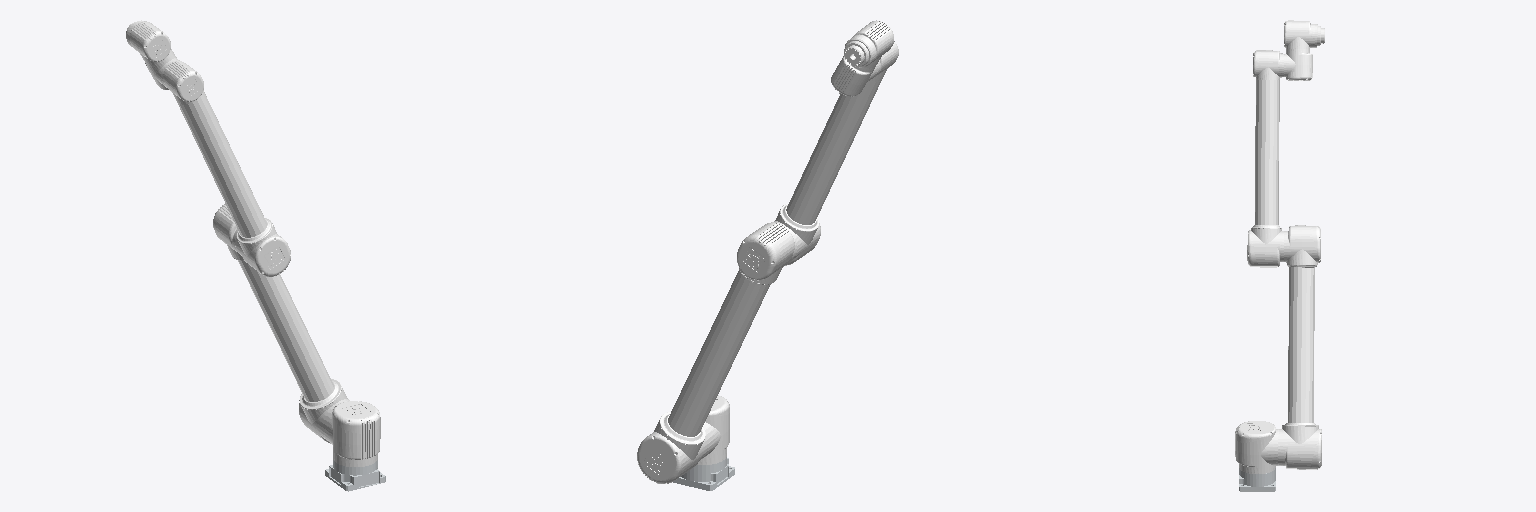
The robot description file, URDF, robot "YT":
<?xml version="1.0" encoding="utf-8"?>
<!-- This URDF was automatically created by SolidWorks to URDF Exporter! Originally created by [author] ([email redacted]) 
     Commit Version: 1.5.1-0-g916b5db  Build Version: 1.5.7152.31018
     For more information, please see http://wiki.ros.org/sw_urdf_exporter -->
<robot
  name="YT">
  <link
    name="base_link">
    <inertial>
      <origin
        xyz="0.029803 0.073083 0.1288"
        rpy="0 0 0" />
      <mass
        value="3.71" />
      <inertia
        ixx="0.0073681"
        ixy="1.6609E-05"
        ixz="2.915E-05"
        iyy="0.011119"
        iyz="-2.9108E-05"
        izz="0.0073471" />
    </inertial>
    <visual>
      <origin
        xyz="0 0 0"
        rpy="0 0 0" />
      <geometry>
        <mesh
          filename="package://YT/meshes/base_link.STL" />
      </geometry>
      <material
        name="">
        <color
          rgba="0.89412 0.91373 0.92941 1" />
      </material>
    </visual>
    <collision>
      <origin
        xyz="0 0 0"
        rpy="0 0 0" />
      <geometry>
        <mesh
          filename="package://YT/meshes/base_link.STL" />
      </geometry>
    </collision>
  </link>
  <link
    name="link1">
    <inertial>
      <origin
        xyz="0.0831710226342745 -0.226900321699955 -0.559609398580625"
        rpy="0 0 0" />
      <mass
        value="14.3431138258698" />
      <inertia
        ixx="4.10403897461197"
        ixy="-0.0130192531909799"
        ixz="0.0088336084502807"
        iyy="3.59620627632839"
        iyz="-1.43876195561687"
        izz="0.713439719889236" />
    </inertial>
    <visual>
      <origin
        xyz="0 0 0"
        rpy="0 0 0" />
      <geometry>
        <mesh
          filename="package://YT/meshes/link1.STL" />
      </geometry>
      <material
        name="">
        <color
          rgba="1 1 1 1" />
      </material>
    </visual>
    <collision>
      <origin
        xyz="0 0 0"
        rpy="0 0 0" />
      <geometry>
        <mesh
          filename="package://YT/meshes/link1.STL" />
      </geometry>
    </collision>
  </link>
  <joint
    name="joint1"
    type="continuous">
    <origin
      xyz="0.029712 -0.12887 0.11217"
      rpy="3.1416 0 1.5477" />
    <parent
      link="base_link" />
    <child
      link="link1" />
    <axis
      xyz="0 0 -1" />
    <limit
      lower="-3.14"
      upper="3.14"
      effort="100"
      velocity="2.09" />
  </joint>
  <link
    name="link2">
    <inertial>
      <origin
        xyz="0.401489551832187 -2.79110068390764E-13 -0.0977402490718507"
        rpy="0 0 0" />
      <mass
        value="5.96228825379761" />
      <inertia
        ixx="0.00837772168861975"
        ixy="-3.61634575841356E-16"
        ixz="-2.15092158493968E-16"
        iyy="0.238464328063253"
        iyz="-1.30104260698261E-18"
        izz="0.238464328063253" />
    </inertial>
    <visual>
      <origin
        xyz="0 0 0"
        rpy="0 0 0" />
      <geometry>
        <mesh
          filename="package://YT/meshes/link2.STL" />
      </geometry>
      <material
        name="">
        <color
          rgba="1 1 1 1" />
      </material>
    </visual>
    <collision>
      <origin
        xyz="0 0 0"
        rpy="0 0 0" />
      <geometry>
        <mesh
          filename="package://YT/meshes/link2.STL" />
      </geometry>
    </collision>
  </link>
  <joint
    name="joint2"
    type="continuous">
    <origin
      xyz="0.07426 0 -0.08725"
      rpy="1.5708 1.1478 -1.5708" />
    <parent
      link="link1" />
    <child
      link="link2" />
    <axis
      xyz="0 0 1" />
    <limit
      lower="-3.14"
      upper="3.14"
      effort="100"
      velocity="2.09" />
  </joint>
  <link
    name="link3">
    <inertial>
      <origin
        xyz="0.36448106708536 -7.96723798046628E-14 -0.0465597509284719"
        rpy="0 0 0" />
      <mass
        value="4.48279165196407" />
      <inertia
        ixx="0.00516955480672141"
        ixy="4.81058280470332E-16"
        ixz="1.13986917777906E-16"
        iyy="0.145695320539262"
        iyz="-1.0842021724855E-18"
        izz="0.145695320539262" />
    </inertial>
    <visual>
      <origin
        xyz="0 0 0"
        rpy="0 0 0" />
      <geometry>
        <mesh
          filename="package://YT/meshes/link3.STL" />
      </geometry>
      <material
        name="">
        <color
          rgba="1 1 1 1" />
      </material>
    </visual>
    <collision>
      <origin
        xyz="0 0 0"
        rpy="0 0 0" />
      <geometry>
        <mesh
          filename="package://YT/meshes/link3.STL" />
      </geometry>
    </collision>
  </link>
  <joint
    name="joint3"
    type="continuous">
    <origin
      xyz="0.80386 0 0"
      rpy="3.1416 0 -0.0040095" />
    <parent
      link="link2" />
    <child
      link="link3" />
    <axis
      xyz="0 0 1" />
    <limit
      lower="-2.79"
      upper="2.79"
      effort="100"
      velocity="2.09" />
  </joint>
  <link
    name="link4">
    <inertial>
      <origin
        xyz="0.00899169994183825 -0.0873295680553726 -1.00126005959918"
        rpy="0 0 0" />
      <mass
        value="14.3431138258698" />
      <inertia
        ixx="4.10403897461197"
        ixy="0.0156514936278273"
        ixz="0.00160135540142995"
        iyy="4.14920501547595"
        iyz="-0.412385849010458"
        izz="0.160440980741678" />
    </inertial>
    <visual>
      <origin
        xyz="0 0 0"
        rpy="0 0 0" />
      <geometry>
        <mesh
          filename="package://YT/meshes/link4.STL" />
      </geometry>
      <material
        name="">
        <color
          rgba="1 1 1 1" />
      </material>
    </visual>
    <collision>
      <origin
        xyz="0 0 0"
        rpy="0 0 0" />
      <geometry>
        <mesh
          filename="package://YT/meshes/link4.STL" />
      </geometry>
    </collision>
  </link>
  <joint
    name="joint4"
    type="continuous">
    <origin
      xyz="0.72495 0 0.017903"
      rpy="0.07519 1.5708 0" />
    <parent
      link="link3" />
    <child
      link="link4" />
    <axis
      xyz="1 0 0" />
    <limit
      lower="-3.14"
      upper="3.14"
      effort="100"
      velocity="3.14" />
  </joint>
  <link
    name="link5">
    <inertial>
      <origin
        xyz="1.09340042571024 0.0861053680543278 -0.0670318590525401"
        rpy="0 0 0" />
      <mass
        value="14.3431138258698" />
      <inertia
        ixx="0.160440980741675"
        ixy="-0.412285811011491"
        ixz="0.00922295190187635"
        iyy="4.14976804157174"
        iyz="0.0148061674564304"
        izz="4.10347594851619" />
    </inertial>
    <visual>
      <origin
        xyz="0 0 0"
        rpy="0 0 0" />
      <geometry>
        <mesh
          filename="package://YT/meshes/link5.STL" />
      </geometry>
      <material
        name="">
        <color
          rgba="1 1 1 1" />
      </material>
    </visual>
    <collision>
      <origin
        xyz="0 0 0"
        rpy="0 0 0" />
      <geometry>
        <mesh
          filename="package://YT/meshes/link5.STL" />
      </geometry>
    </collision>
  </link>
  <joint
    name="joint5"
    type="continuous">
    <origin
      xyz="-0.056437 0 0.09214"
      rpy="3.1231 1.5708 0" />
    <parent
      link="link4" />
    <child
      link="link5" />
    <axis
      xyz="1 0 0" />
    <limit
      lower="-3.14"
      upper="3.14"
      effort="100"
      velocity="3.14" />
  </joint>
  <link
    name="link6">
    <inertial>
      <origin
        xyz="-2.48920328793645E-10 0.0148658456403678 1.90392097254577E-05"
        rpy="0 0 0" />
      <mass
        value="0.188062299506066" />
      <inertia
        ixx="0.00010694993147244"
        ixy="4.94732512284877E-13"
        ixz="-1.18810293822814E-12"
        iyy="0.000170031690069996"
        iyz="-5.55503175949622E-08"
        izz="0.000107056263617998" />
    </inertial>
    <visual>
      <origin
        xyz="0 0 0"
        rpy="0 0 0" />
      <geometry>
        <mesh
          filename="package://YT/meshes/link6.STL" />
      </geometry>
      <material
        name="">
        <color
          rgba="1 1 1 1" />
      </material>
    </visual>
    <collision>
      <origin
        xyz="0 0 0"
        rpy="0 0 0" />
      <geometry>
        <mesh
          filename="package://YT/meshes/link6.STL" />
      </geometry>
    </collision>
  </link>
  <joint
    name="joint6"
    type="continuous">
    <origin
      xyz="-0.02876 0 0.065129"
      rpy="1.5708 0 -1.7402" />
    <parent
      link="link5" />
    <child
      link="link6" />
    <axis
      xyz="0 1 0" />
    <limit
      lower="-6.28"
      upper="6.28"
      effort="100"
      velocity="3.14" />
  </joint>
</robot>

--- What the picture shows (computed from the rendered views, not written in the file) ---
Views: 3 orthographic renders of the robot side by side, from view 1: azimuth 30°, elevation 25°; view 2: azimuth 150°, elevation 25°; view 3: azimuth 270°, elevation 25°.
Robot: YT — 7 links, 6 joints (6 continuous); root link base_link; default pose: all joints at 0.
Visible links, largest first — view 1: link3, link2, link1, link5, base_link; view 2: link2, link3, link1, base_link, link4, link5, link6; view 3: link2, link3, link1, link4, link5, base_link.
Boxes of the visible links, left/top/right/bottom form: link3: left=161, top=61, right=290, bottom=276; link2: left=213, top=204, right=349, bottom=443; link1: left=323, top=401, right=380, bottom=466; link5: left=128, top=21, right=170, bottom=64; base_link: left=325, top=460, right=385, bottom=491; link2: left=637, top=222, right=796, bottom=483; link3: left=774, top=41, right=898, bottom=265; link1: left=697, top=395, right=729, bottom=464; base_link: left=673, top=457, right=734, bottom=490; link4: left=831, top=56, right=877, bottom=96; link5: left=852, top=20, right=893, bottom=68; link6: left=844, top=37, right=872, bottom=67; link2: left=1278, top=225, right=1321, bottom=469; link3: left=1247, top=50, right=1283, bottom=267; link1: left=1235, top=421, right=1278, bottom=473; link4: left=1284, top=49, right=1312, bottom=80; link5: left=1284, top=20, right=1314, bottom=48; base_link: left=1239, top=468, right=1275, bottom=491.
Size in the robot's own frame: 0.8193 by 0.3583 by 1.72 metres.
7 mesh visuals loaded from 7 distinct referenced files (7 binary STL).
